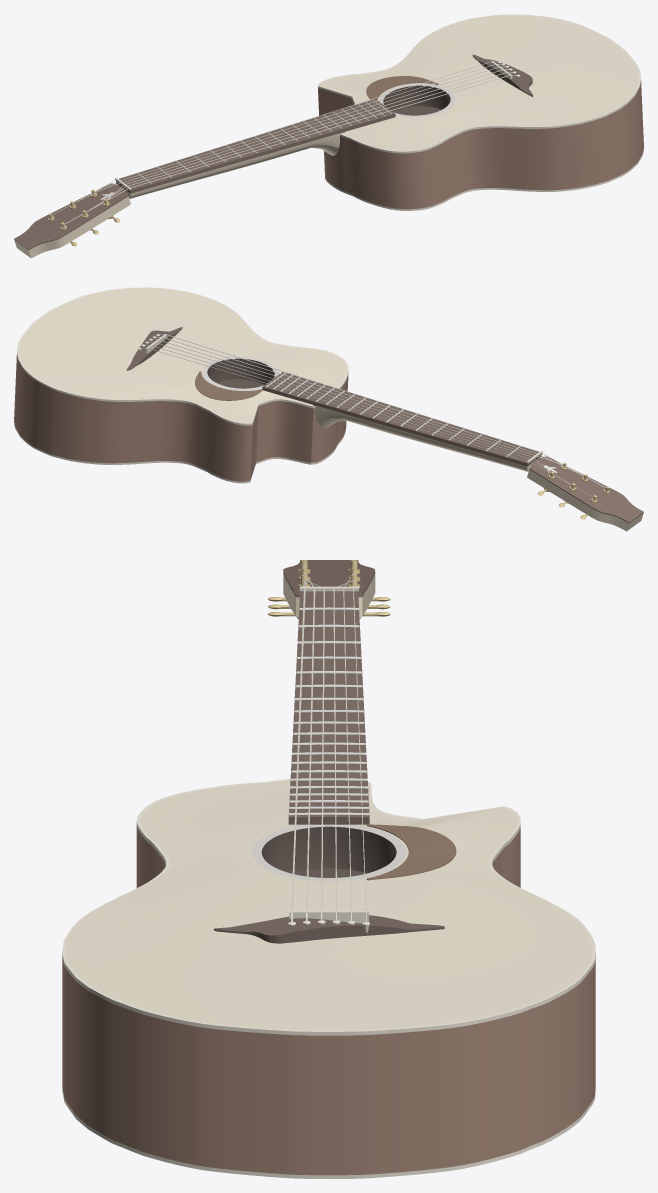
Rendered from guitar.glb.
3 views of the same model, one above another, from view 1: azimuth 30°, elevation 25°; view 2: azimuth 150°, elevation 25°; view 3: azimuth 270°, elevation 25° (orthographic). The views are drawn at different scales.
Visible parts, largest first — view 1: guitar_top, guitar_side, guitar_fretboard, guitar_strings, guitar_neck, guitar_binding, guitar_headplate, guitar_cavity, guitar_frets, guitar_bridge, guitar_pickguard, guitar_rosette (+1 smaller); view 2: guitar_top, guitar_side, guitar_fretboard, guitar_strings, guitar_neck, guitar_binding, guitar_headplate, guitar_cavity, guitar_pickguard, guitar_frets, guitar_bridge, guitar_rosette; view 3: guitar_top, guitar_side, guitar_fretboard, guitar_binding, guitar_cavity, guitar_strings, guitar_frets, guitar_bridge, guitar_pickguard, guitar_headplate, guitar_rosette, guitar_tuners.
Part boxes in pixels (x1,y1,x2,y2): guitar_top: (319,15,638,150); guitar_side: (318,81,643,209); guitar_fretboard: (116,99,395,193); guitar_strings: (52,61,517,224); guitar_neck: (14,132,345,258); guitar_binding: (318,14,643,210); guitar_headplate: (14,183,128,250); guitar_cavity: (383,85,450,115); guitar_frets: (137,99,391,183); guitar_bridge: (472,54,533,96); guitar_pickguard: (366,76,438,99); guitar_rosette: (379,83,455,117); guitar_top: (19,288,346,422); guitar_side: (14,355,348,481); guitar_fretboard: (262,372,541,466); guitar_strings: (141,334,605,497); guitar_neck: (313,405,643,531); guitar_binding: (14,287,348,483); guitar_headplate: (529,456,643,522); guitar_cavity: (207,358,274,388); guitar_pickguard: (195,371,262,400); guitar_frets: (266,372,520,456); guitar_bridge: (126,327,182,370); guitar_rosette: (202,356,278,390); guitar_top: (65,780,592,1030); guitar_side: (62,825,595,1175); guitar_fretboard: (288,591,369,824); guitar_binding: (62,779,595,1178); guitar_cavity: (261,826,396,877); guitar_strings: (291,565,366,921); guitar_frets: (289,607,369,815); guitar_bridge: (214,915,444,943); guitar_pickguard: (366,824,456,880); guitar_headplate: (283,560,375,597); guitar_rosette: (252,824,405,881); guitar_tuners: (267,560,390,618).
Size of the model in its own units: 1.03 by 0.1292 by 0.3955.
